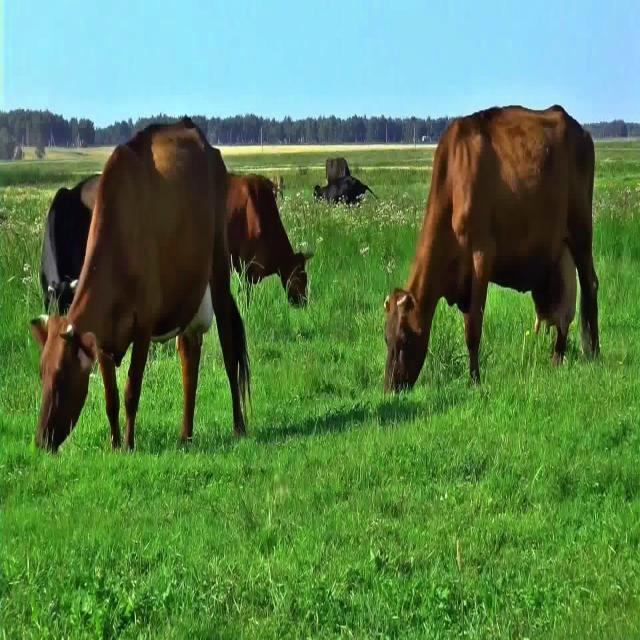cow: (32, 119, 249, 451), (385, 106, 599, 391)
